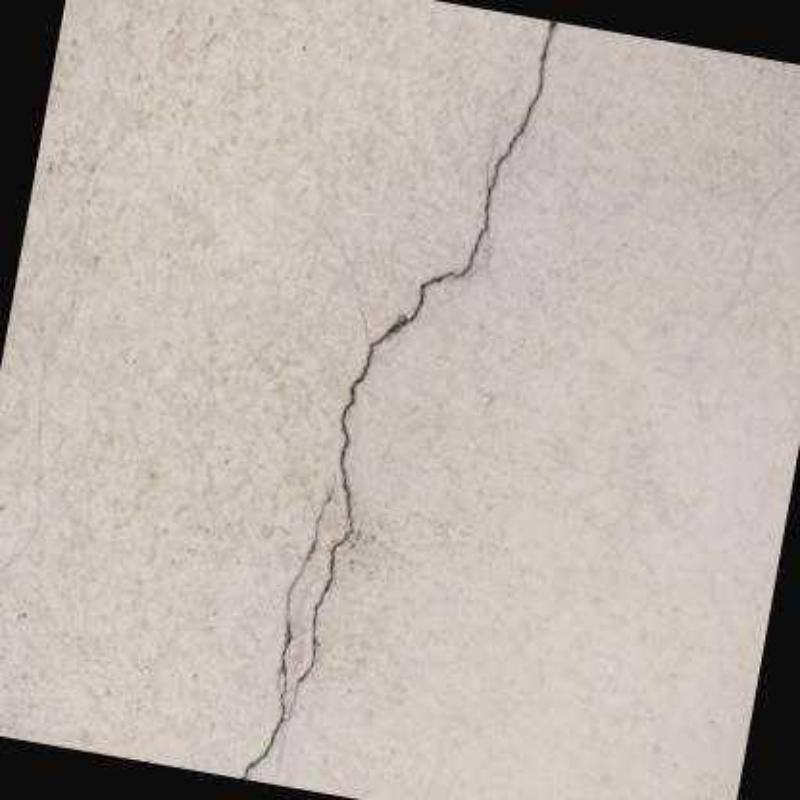crack: (238, 22, 556, 777)
